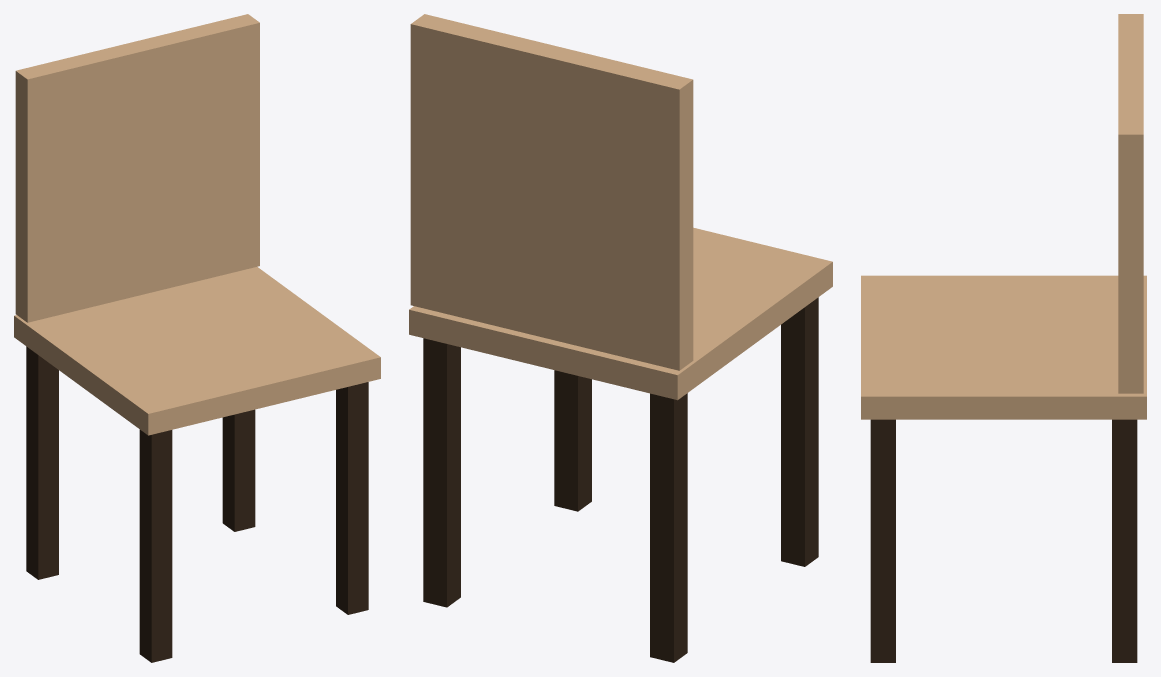
The model's file is PRP_Chair_A.glb.
3 renders of one model, left to right at view 1: azimuth 30°, elevation 25°; view 2: azimuth 150°, elevation 25°; view 3: azimuth 270°, elevation 25°, orthographic. The views are drawn at different scales.
Visible parts, largest first — view 1: PRP_Chair_A_Back, PRP_Chair_A_Seat, PRP_Chair_A_Leg0, PRP_Chair_A_Leg1, PRP_Chair_A_Leg2, PRP_Chair_A_Leg3; view 2: PRP_Chair_A_Back, PRP_Chair_A_Seat, PRP_Chair_A_Leg2, PRP_Chair_A_Leg3, PRP_Chair_A_Leg0, PRP_Chair_A_Leg1; view 3: PRP_Chair_A_Seat, PRP_Chair_A_Back, PRP_Chair_A_Leg1, PRP_Chair_A_Leg3.
Boxes of the visible parts, <box> form: PRP_Chair_A_Back: <box>15,14,259,322</box>; PRP_Chair_A_Seat: <box>14,267,380,435</box>; PRP_Chair_A_Leg0: <box>139,429,172,662</box>; PRP_Chair_A_Leg1: <box>336,382,368,614</box>; PRP_Chair_A_Leg2: <box>26,346,58,579</box>; PRP_Chair_A_Leg3: <box>222,409,255,531</box>; PRP_Chair_A_Back: <box>410,14,693,370</box>; PRP_Chair_A_Seat: <box>409,227,832,400</box>; PRP_Chair_A_Leg2: <box>650,393,687,662</box>; PRP_Chair_A_Leg3: <box>423,338,460,607</box>; PRP_Chair_A_Leg0: <box>781,297,818,566</box>; PRP_Chair_A_Leg1: <box>554,370,591,511</box>; PRP_Chair_A_Seat: <box>861,275,1146,419</box>; PRP_Chair_A_Back: <box>1118,14,1143,393</box>; PRP_Chair_A_Leg1: <box>870,419,895,662</box>; PRP_Chair_A_Leg3: <box>1112,419,1137,662</box>.
Bounding box in the file's own units: 0.45 × 0.925 × 0.45.
